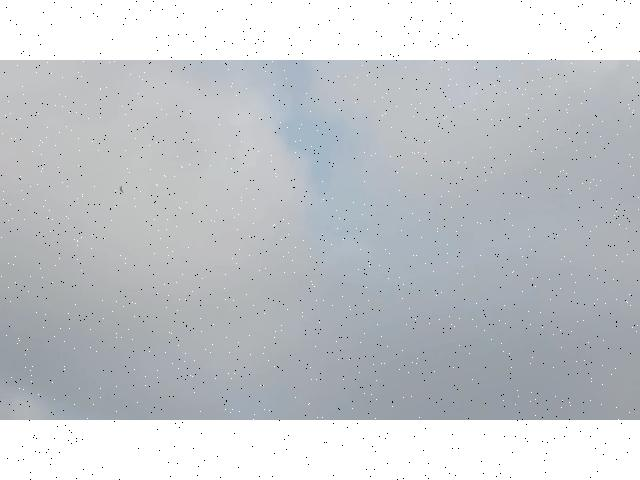Anti-Drone: (119, 184, 125, 194)
